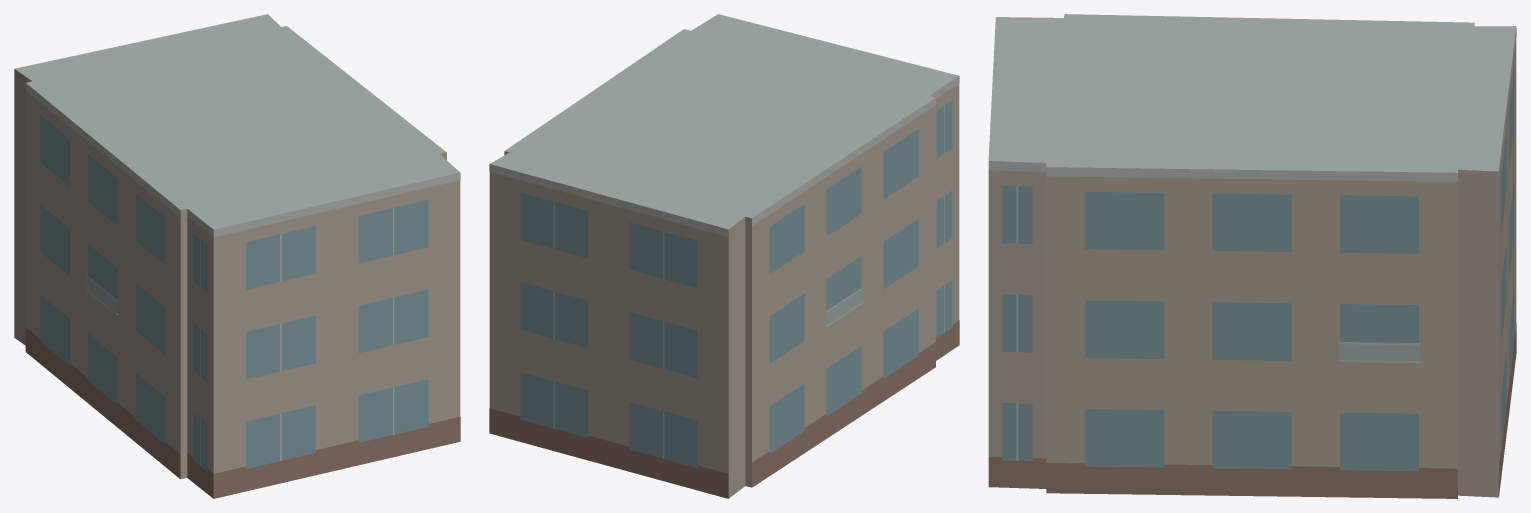
File: survey-upis-32657360.glb
3 renders of one model, left to right at view 1: azimuth 30°, elevation 25°; view 2: azimuth 150°, elevation 25°; view 3: azimuth 270°, elevation 25°, orthographic. The views are drawn at different scales.
Parts seen in each view (by area): view 1: survey-upis-32657360.tmp; view 2: survey-upis-32657360.tmp; view 3: survey-upis-32657360.tmp.
Boxes of the visible parts, x1,y1,x2,y2 form: survey-upis-32657360.tmp: [14, 14, 460, 498]; survey-upis-32657360.tmp: [489, 14, 959, 498]; survey-upis-32657360.tmp: [988, 14, 1516, 498].
Size of the model in its own units: 9 by 8.6 by 12.63.
